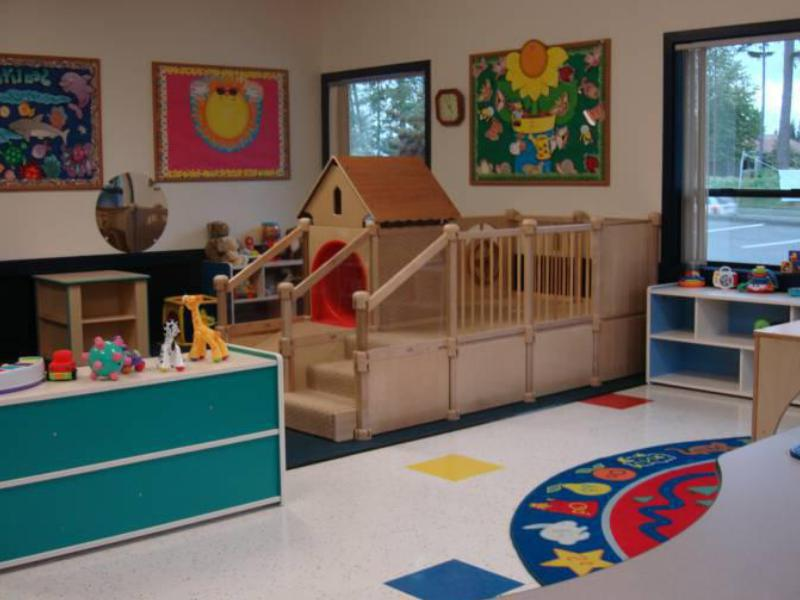Escaleras: (293, 322, 447, 451)
